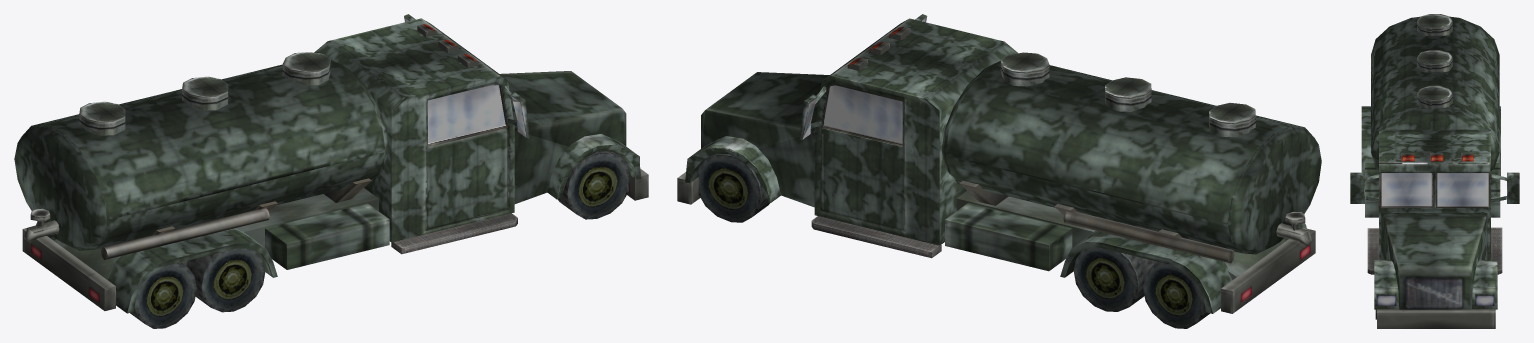
File: watertruck.obj
3 renders of one model, left to right at view 1: azimuth 30°, elevation 25°; view 2: azimuth 150°, elevation 25°; view 3: azimuth 270°, elevation 25°, orthographic. The views are drawn at different scales.
Visible parts, largest first — view 1: Group; view 2: Group; view 3: Group.
Part boxes in pixels (x1,y1,x2,y2): Group: (14, 14, 648, 328); Group: (677, 14, 1321, 328); Group: (1350, 14, 1519, 328).
Bounding box in the file's own units: 260 × 80.01 × 90.4.
